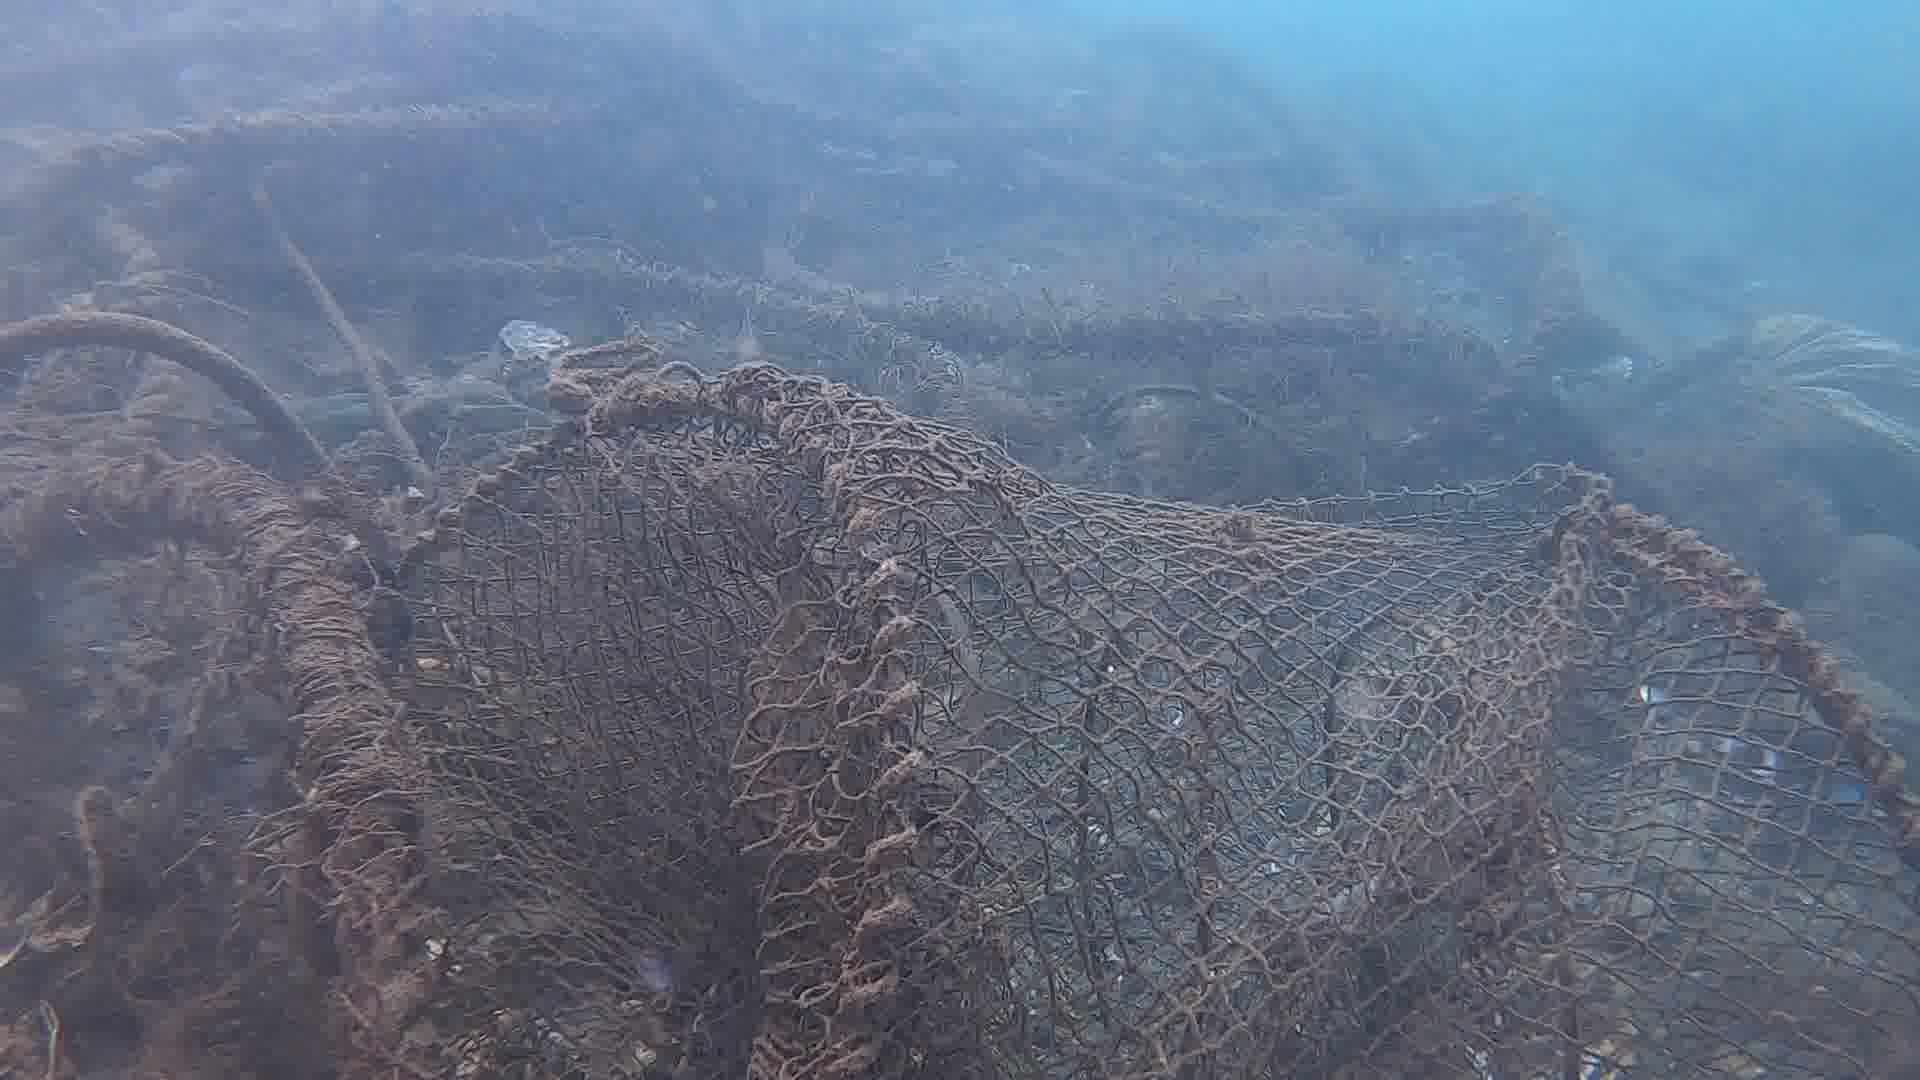spring fish trap: (211, 373, 1919, 1080)
